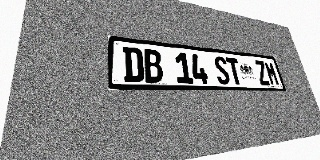1: (173, 52, 194, 84)
4: (189, 53, 209, 84)
B: (143, 49, 164, 83)
D: (123, 46, 144, 82)
M: (264, 61, 280, 85)
S: (213, 56, 231, 84)
T: (225, 57, 243, 85)
Z: (254, 60, 271, 85)
